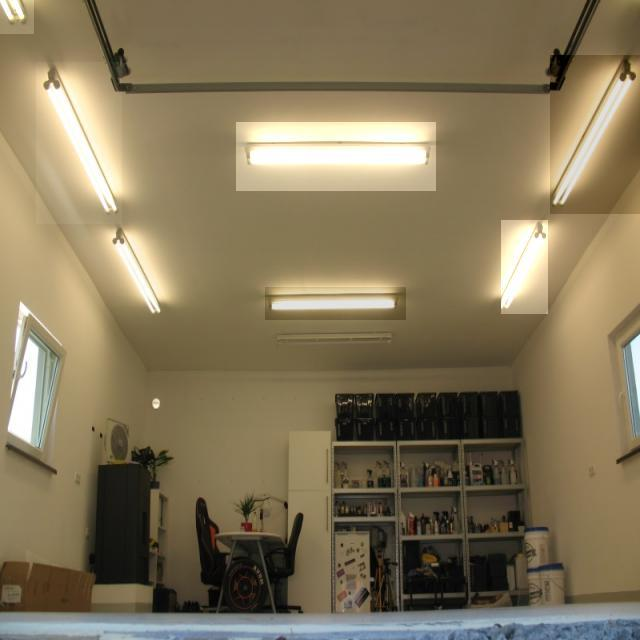fan: (102, 417, 129, 464)
light: (239, 116, 440, 197), (550, 56, 635, 206), (43, 65, 117, 214), (266, 286, 403, 321), (499, 220, 548, 314), (112, 227, 161, 314)
